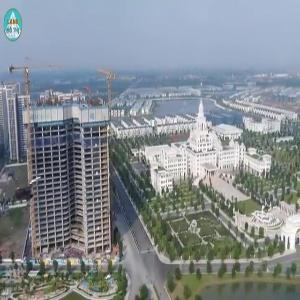drone: (5, 167, 56, 218)
